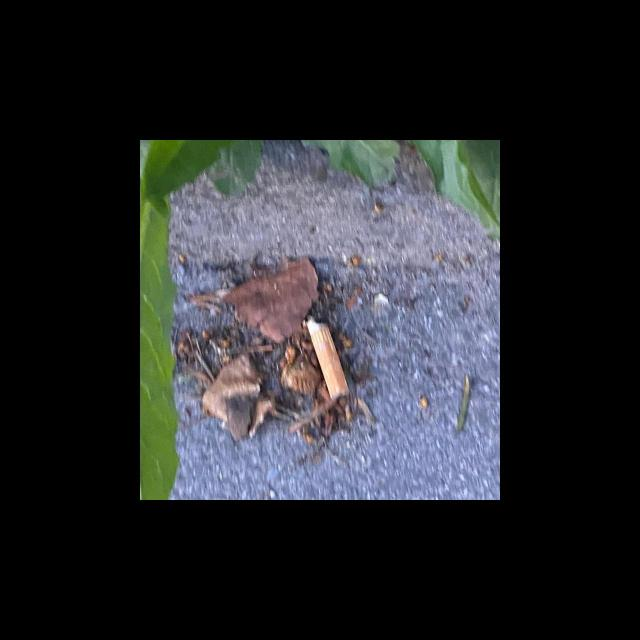cigarette: (306, 313, 350, 401)
